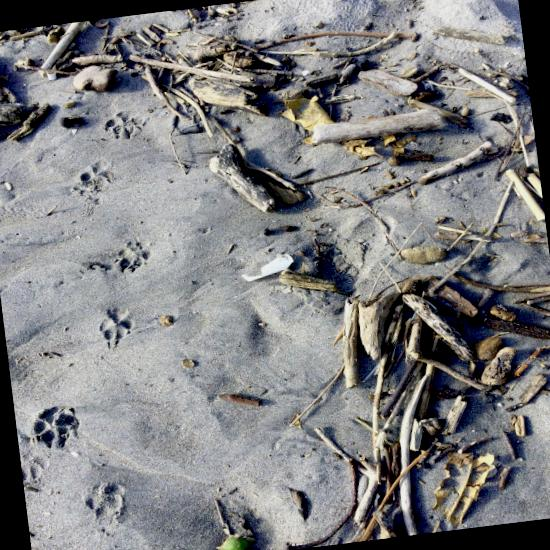Other plastic bottle: (242, 254, 293, 281)
Plastic bottle cap: (46, 71, 57, 80)
